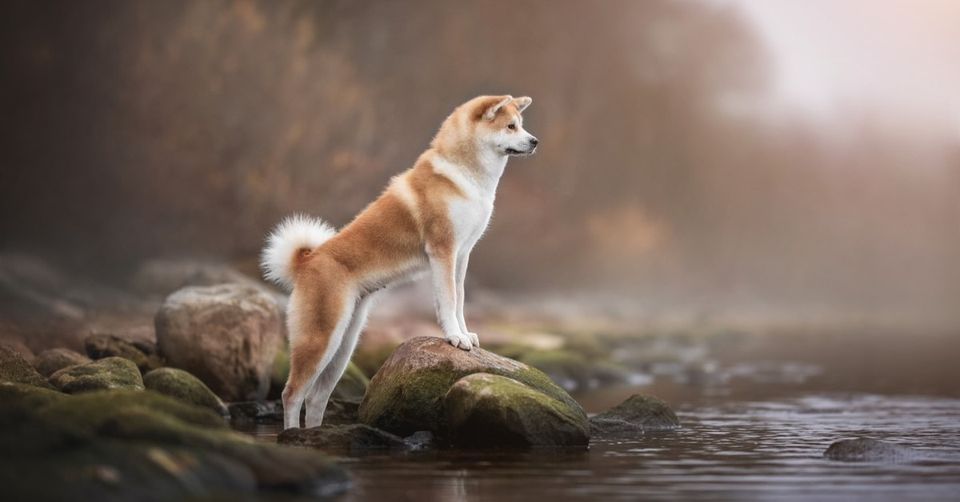dog: (238, 78, 543, 446)
